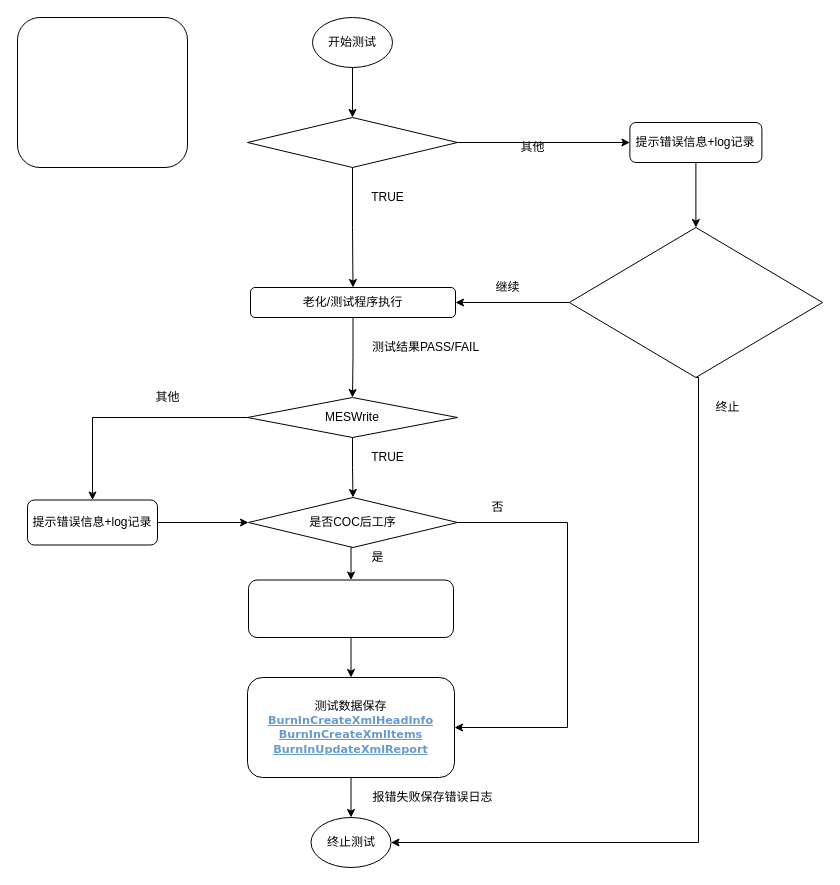
The diagram is 840 pixels wide and 885 high, and some of its shapes have lost their labels. Each missing label, with the centre of its shape:
"MESread检验" goes at point (352, 142).
"开放一个配置 是否需要执行MES管控 默认开启状态 （如不开启，MESread,MESwrite这两个函数不执行，只保存数据）" goes at point (102, 92).
"操作员决定 程序是否正常执行 (是取出还是正常执行，如正常执行，则MESread失败的产品后续流程都不用执行)" goes at point (695, 302).
"查询COC前的最后一次数据 BurnInQueryXmlReport 做比较数据" goes at point (351, 608).
